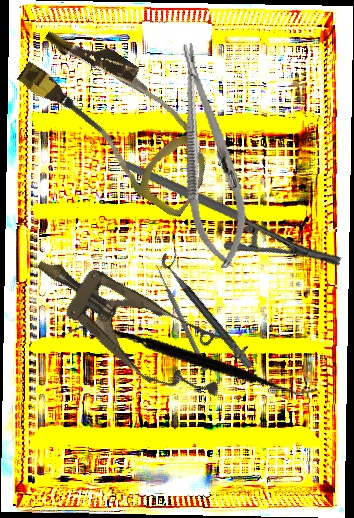Cannula: (1, 14, 237, 221)
Fixation Ring: (157, 246, 263, 371)
Needle Holder: (117, 100, 346, 324), (160, 38, 257, 273)
Pusher: (153, 263, 209, 372)
Spatula Surgical: (68, 271, 319, 450)
Speculum: (17, 228, 249, 417)
